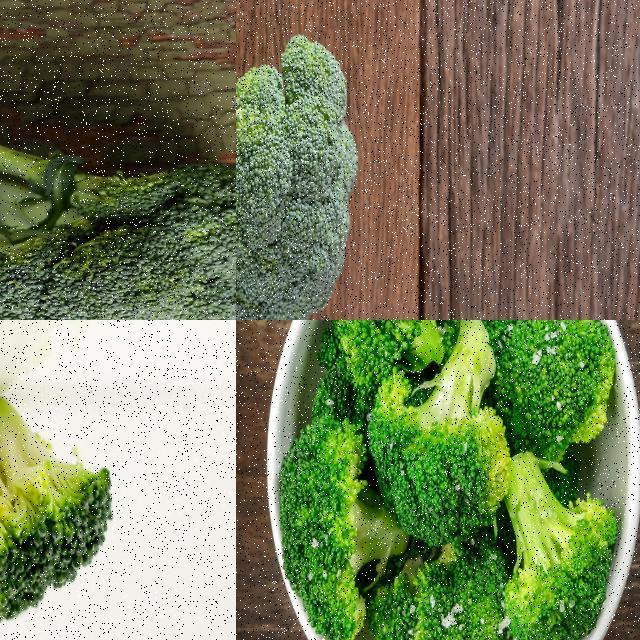broccoli: (0, 117, 235, 319), (236, 0, 373, 319), (366, 320, 513, 547), (0, 369, 121, 639), (274, 421, 413, 639), (498, 447, 620, 639), (489, 320, 613, 463), (333, 320, 458, 394)
